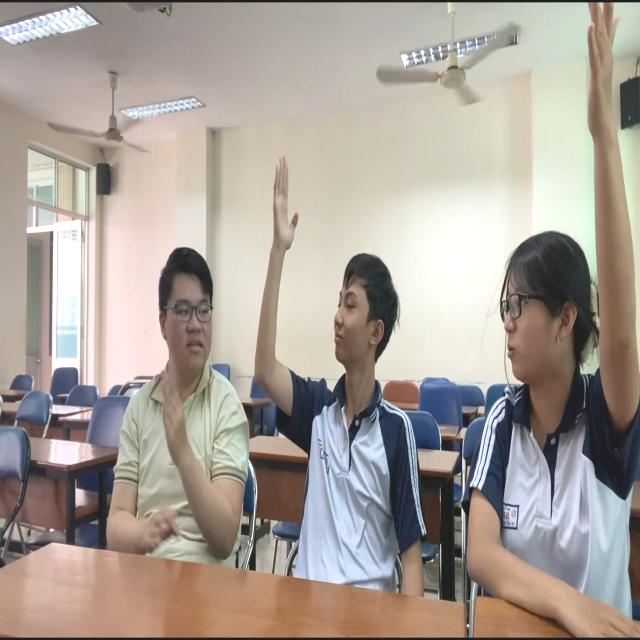raise_hand: (460, 1, 636, 640), (241, 141, 426, 585)
